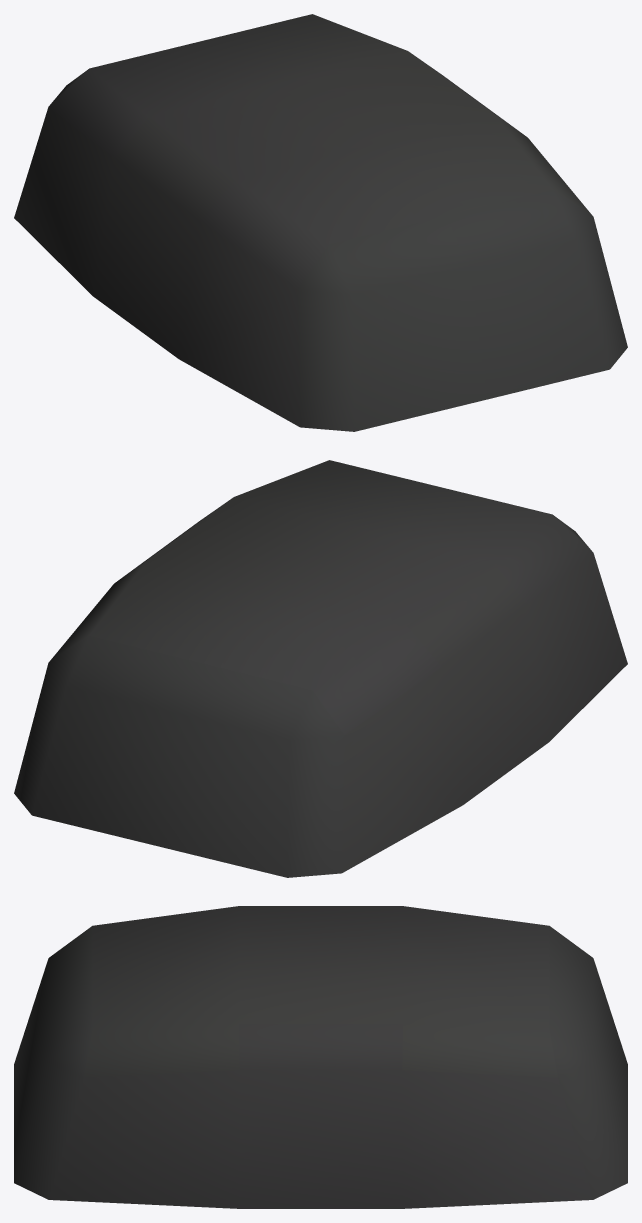
The model's file is Brick_1_2.glb.
The picture shows the model from 3 angles, top to bottom: view 1: azimuth 30°, elevation 25°; view 2: azimuth 150°, elevation 25°; view 3: azimuth 270°, elevation 25°; orthographic projection. The views are drawn at different scales.
Visible parts, largest first — view 1: Brick_1_2; view 2: Brick_1_2; view 3: Brick_1_2.
Boxes of the visible parts, box(x1,y1,x2,y2) form: Brick_1_2: box(14, 14, 627, 431); Brick_1_2: box(14, 460, 627, 877); Brick_1_2: box(14, 906, 627, 1208).
Size of the model in its own units: 0.1544 by 0.0674 by 0.2342.
1 material, 1 textured.
